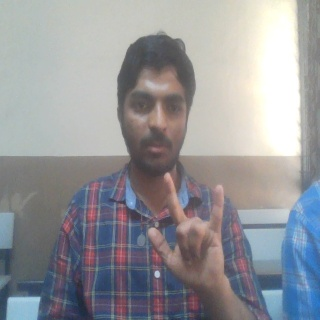Face: (114, 30, 196, 176)
I Love You: (145, 172, 234, 291)
